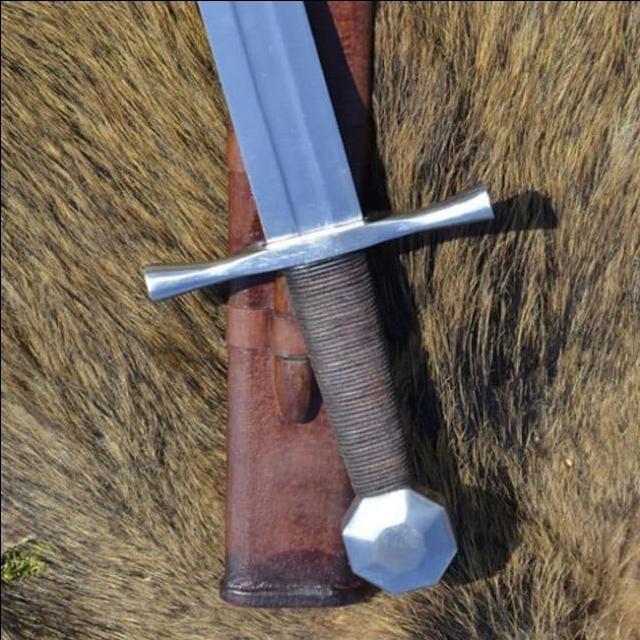sword: (139, 1, 504, 597)
